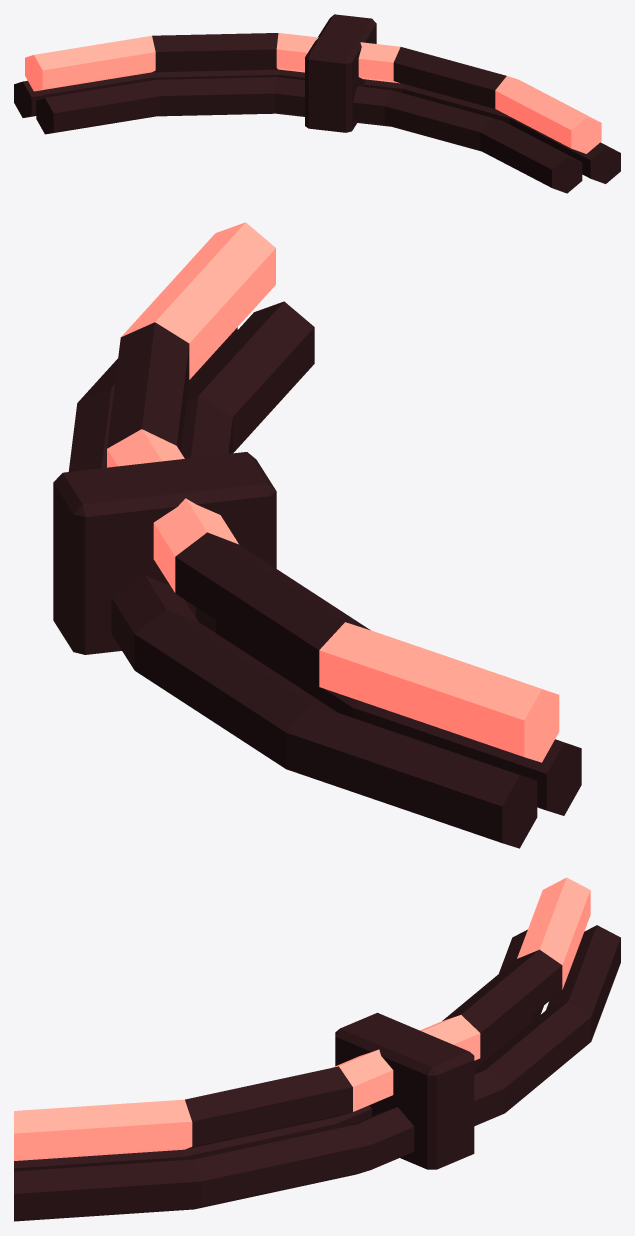
File: cable_curve_nightmare.glb
3 views of the same model, one above another, from view 1: azimuth 30°, elevation 25°; view 2: azimuth 150°, elevation 25°; view 3: azimuth 270°, elevation 25° (orthographic). The views are drawn at different scales.
Visible parts, largest first — view 1: Mesh; view 2: Mesh; view 3: Mesh.
Boxes of the visible parts, left/top/right/bottom form: Mesh: left=14, top=14, right=620, bottom=193; Mesh: left=53, top=222, right=581, bottom=848; Mesh: left=14, top=877, right=620, bottom=1221.
Bounding box in the file's own units: 1.1 × 0.2 × 1.1.
